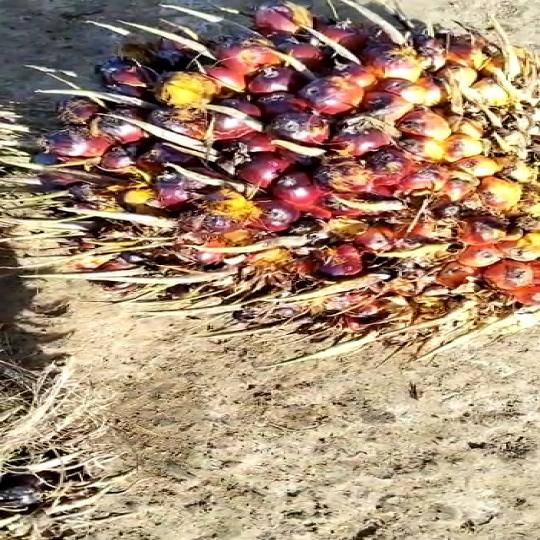masak: (16, 9, 540, 340)
